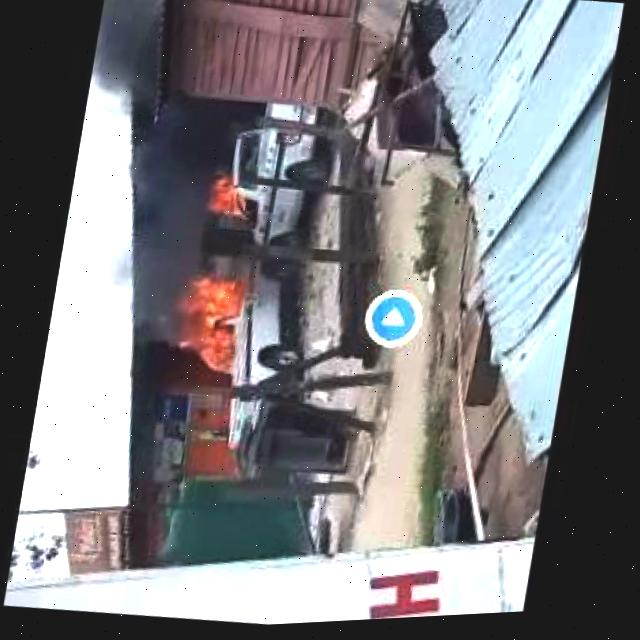Fire: (151, 260, 255, 382), (193, 167, 258, 231)
Smoke: (46, 0, 232, 357)
